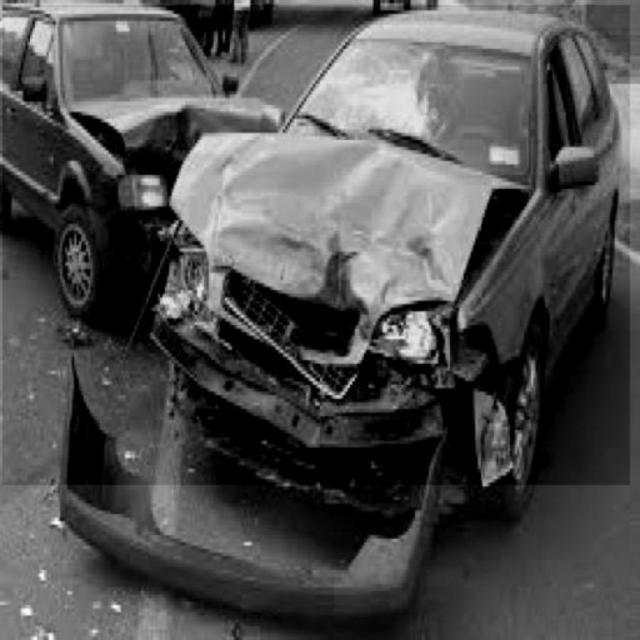accident: (2, 6, 630, 486)
